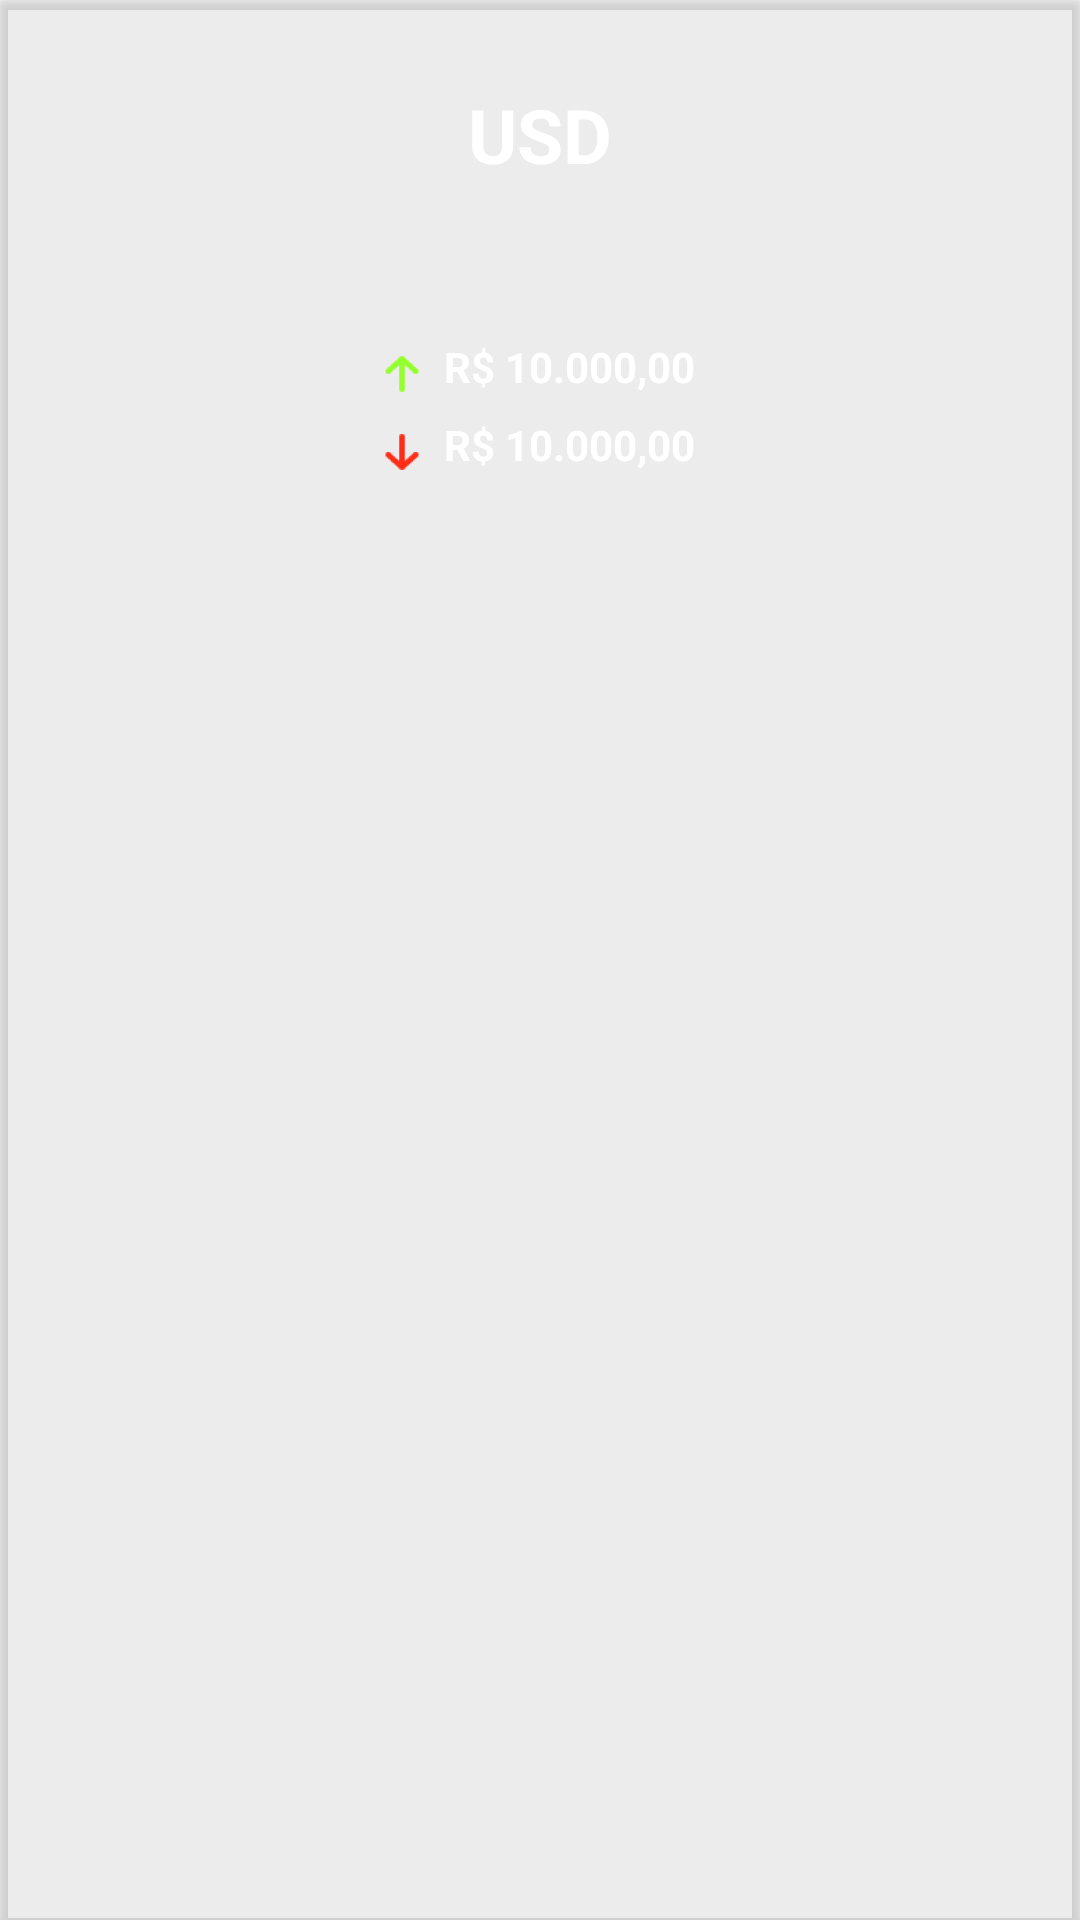

Screen size 1080 x 1920. Icon name, then its box in pixels as (left=x1, top=y1, right=x2, bottom=y2):
high price: (left=385, top=356, right=419, bottom=392)
low price: (left=385, top=434, right=419, bottom=470)
